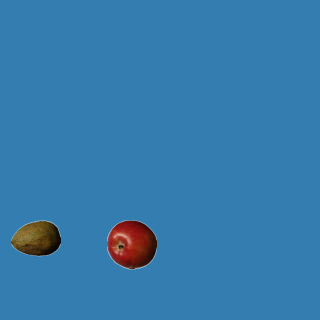Apple Braeburn: (106, 219, 156, 269)
Papaya: (10, 213, 60, 263)
